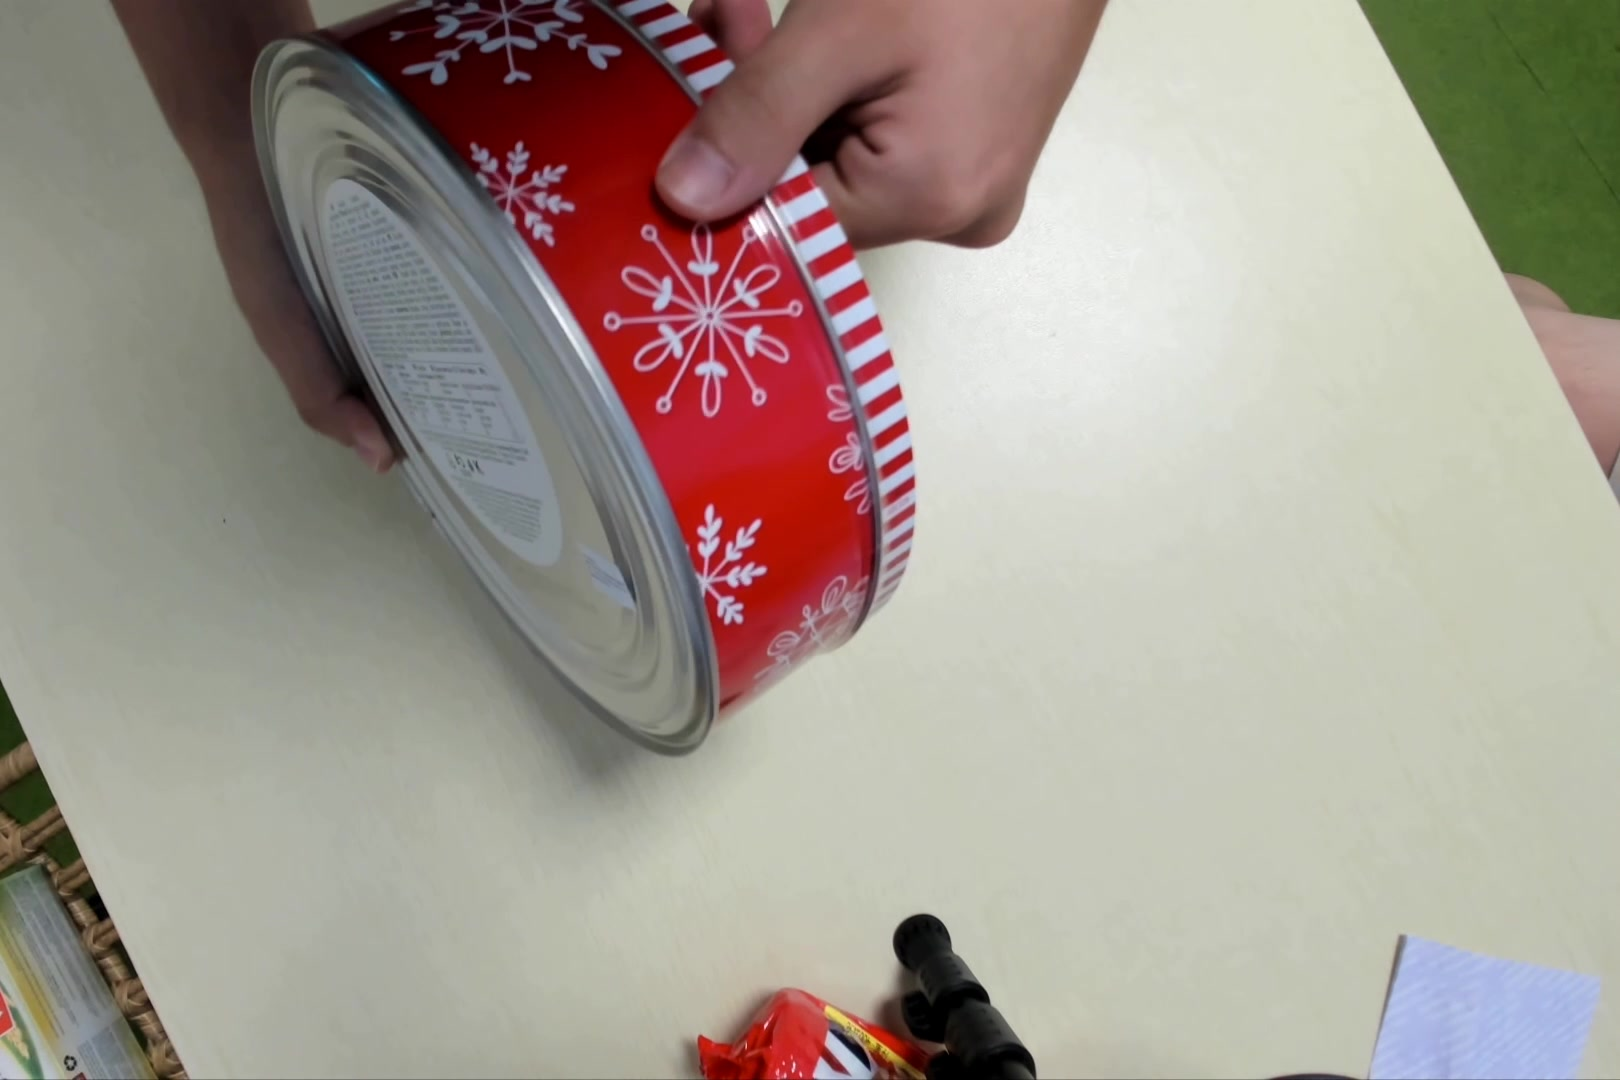BiscuitsCrackersCookies_400-499g_NonHalal_NonHealthy: (248, 1, 918, 755)
